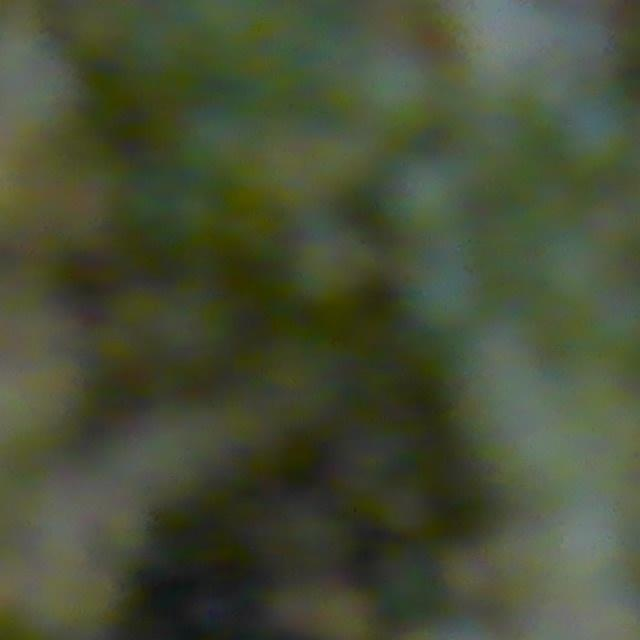SeaGrape: (383, 150, 471, 236), (355, 48, 440, 135), (556, 93, 639, 176), (405, 255, 482, 332)
